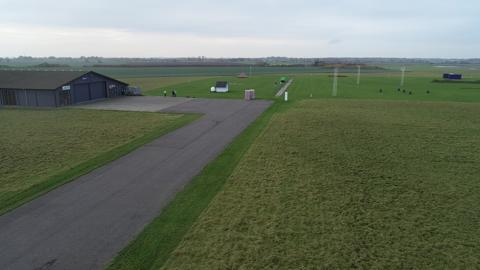RockwoolPallet: (250, 89, 256, 101)
